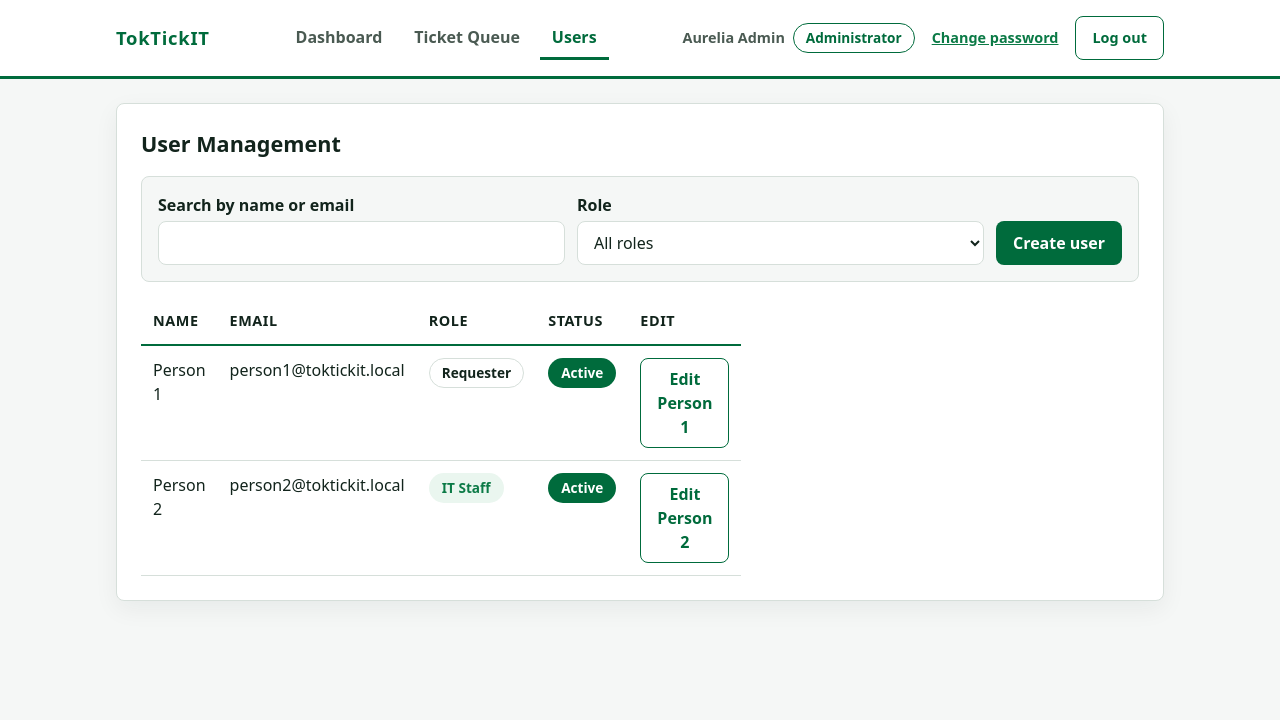
Scenario: User Management — creating › shows only the password rules that apply to an initial password
The width and height of the screenshot is (1280, 720).
Check: the heading "User Management" is shown, box [141,129,341,158]
Click the button "Create user": (1059, 243) [996,221,1122,265]
(page scrolled)
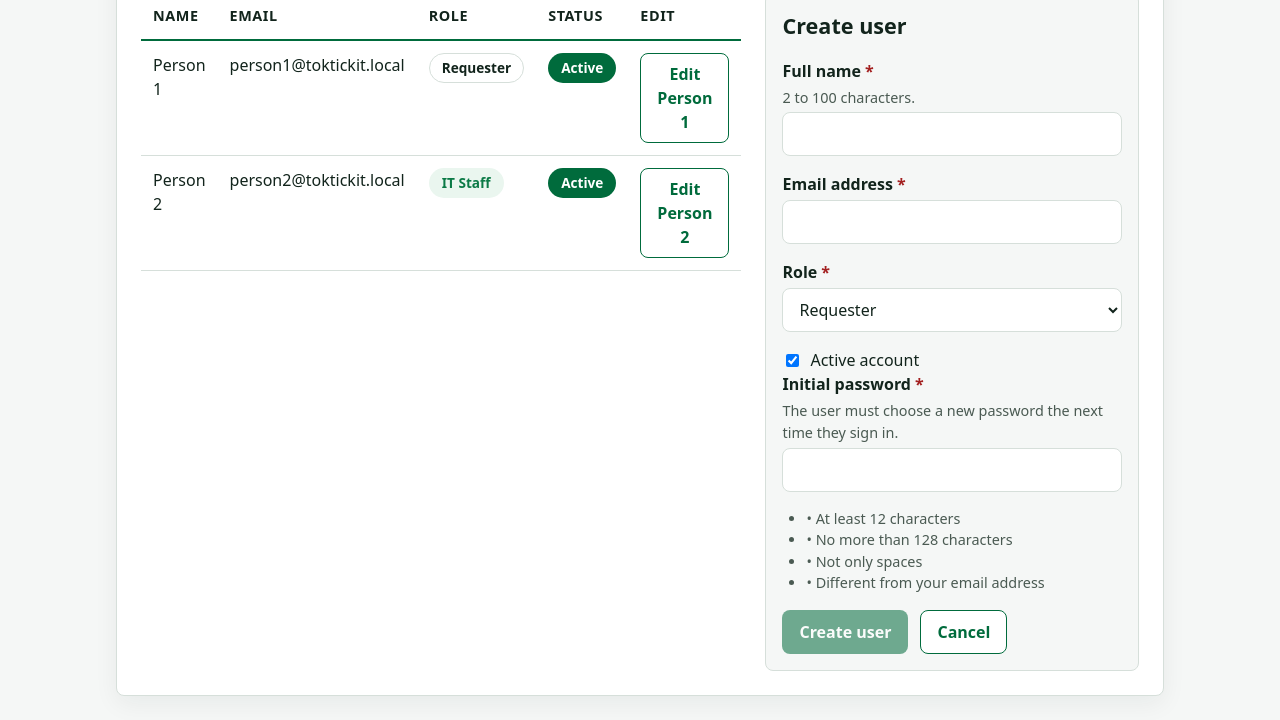
Check: the list item "• At least 12 characters" is shown, box [806,509,960,528]
Check: the list item "• Different from your email address" is shown, box [806,573,1045,592]
